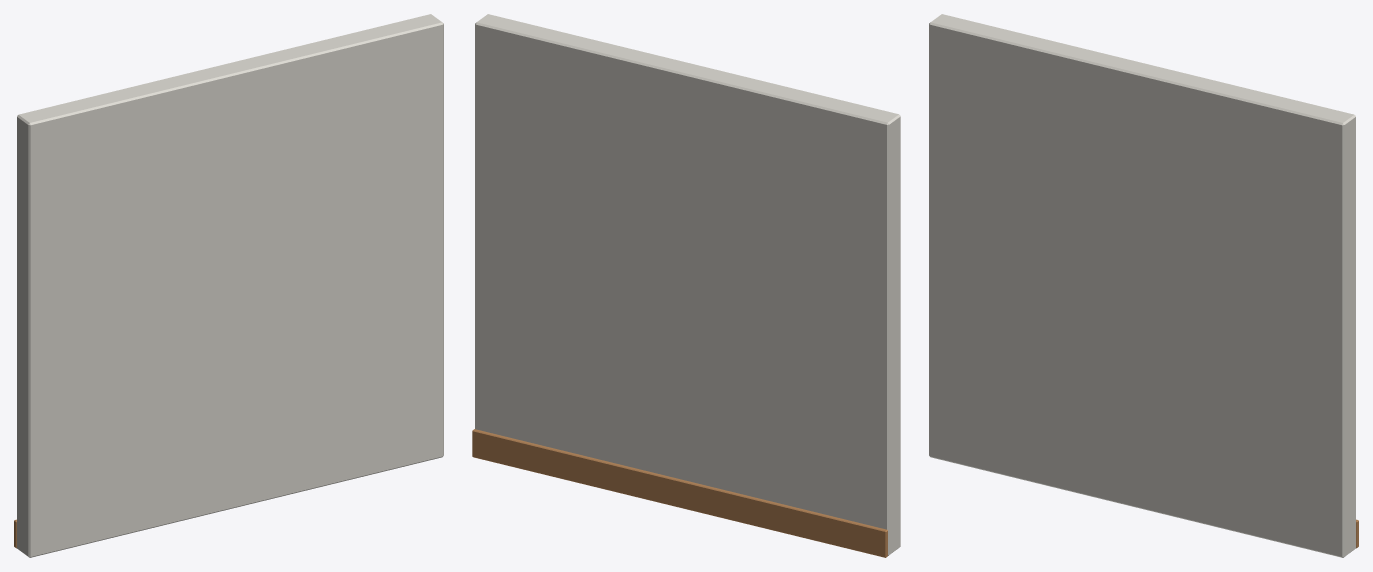
Rendered from SM_WallModule.obj.
3 renders of one model, left to right at view 1: azimuth 30°, elevation 25°; view 2: azimuth 150°, elevation 25°; view 3: azimuth 330°, elevation 25°, orthographic.
Visible parts, largest first — view 1: SM_WallModule; view 2: SM_WallModule; view 3: SM_WallModule.
Boxes of the visible parts, bbox=[...] form: SM_WallModule: bbox=[14, 14, 443, 557]; SM_WallModule: bbox=[472, 14, 900, 557]; SM_WallModule: bbox=[929, 14, 1358, 557].
Bounding box in the file's own units: 4 × 4 × 0.26.
